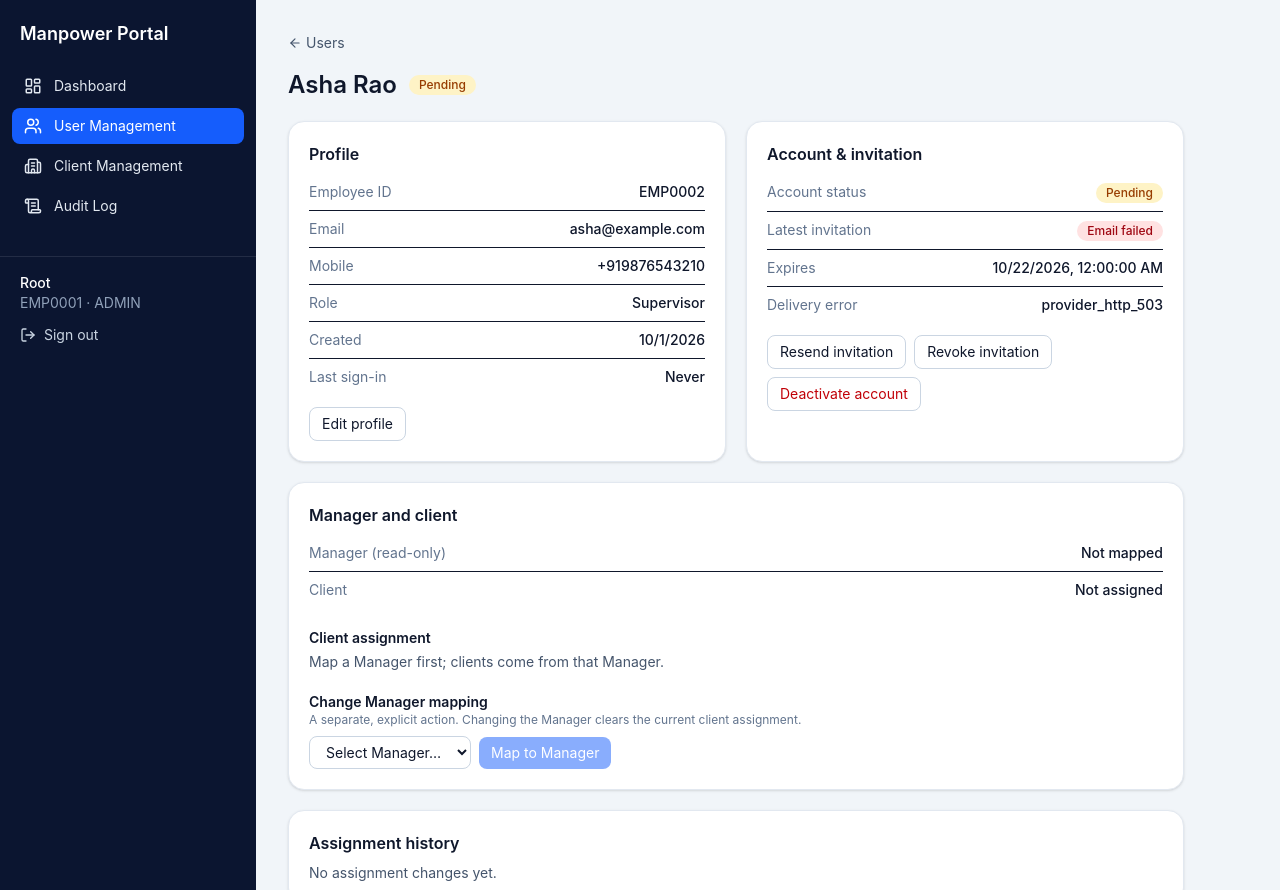
Test: pending user can resend invitation; delivery failure is surfaced
This screenshot has width=1280, height=890.
Click the button "Resend invitation".
click(837, 352)  # box top-left (767, 335), bottom-right (906, 369)
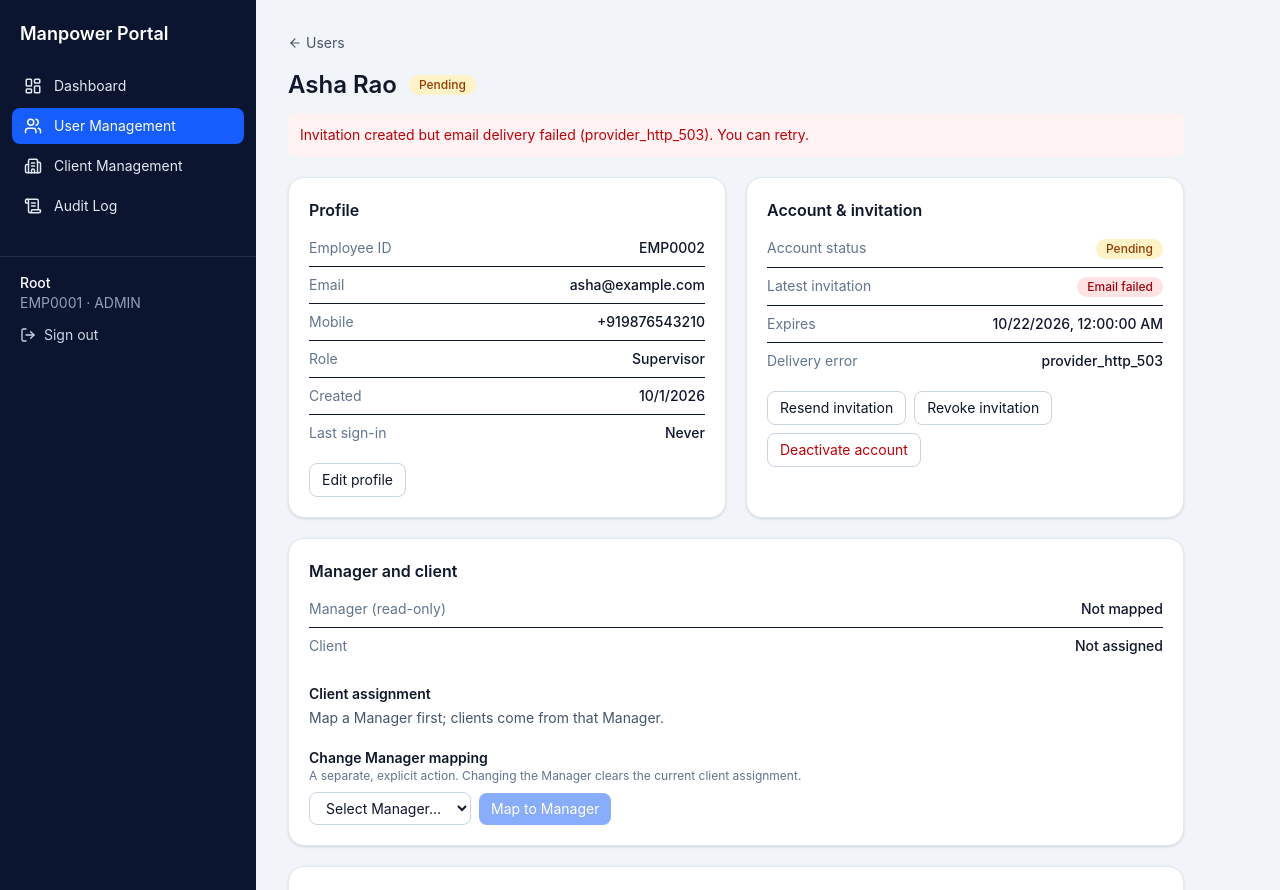
Expected: the message shows "email delivery failed", top-left (300, 126), bottom-right (809, 143)
